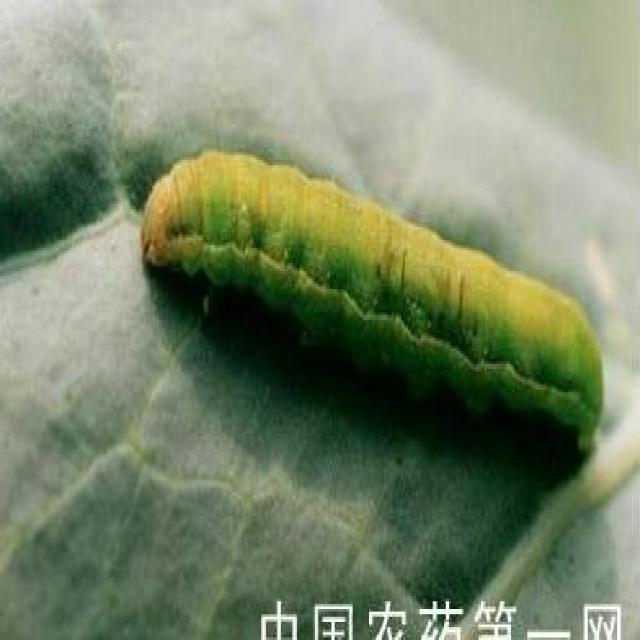BeetArmyWorm-Larva-: (121, 135, 613, 447)
